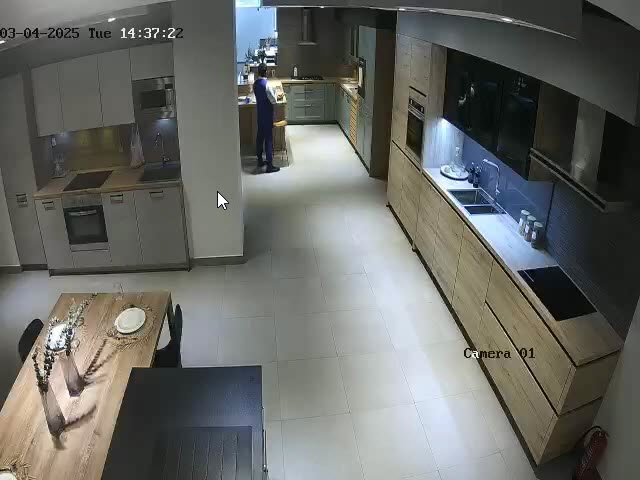employee: (253, 65, 280, 173)
